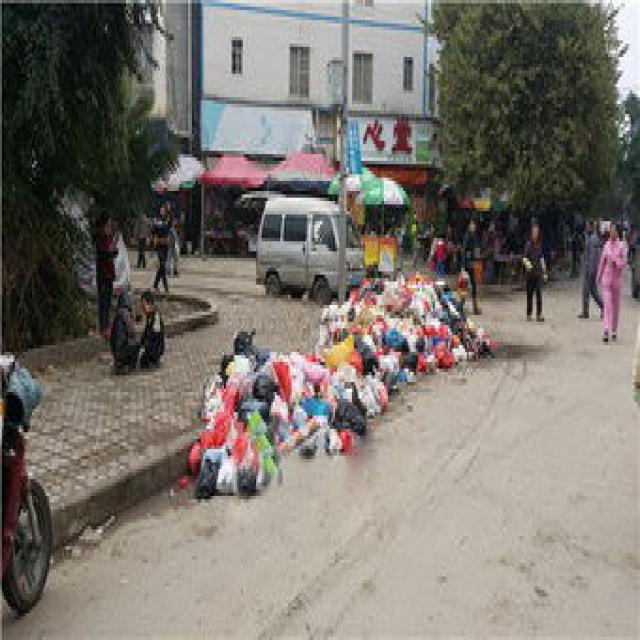garbage: (177, 268, 497, 496)
